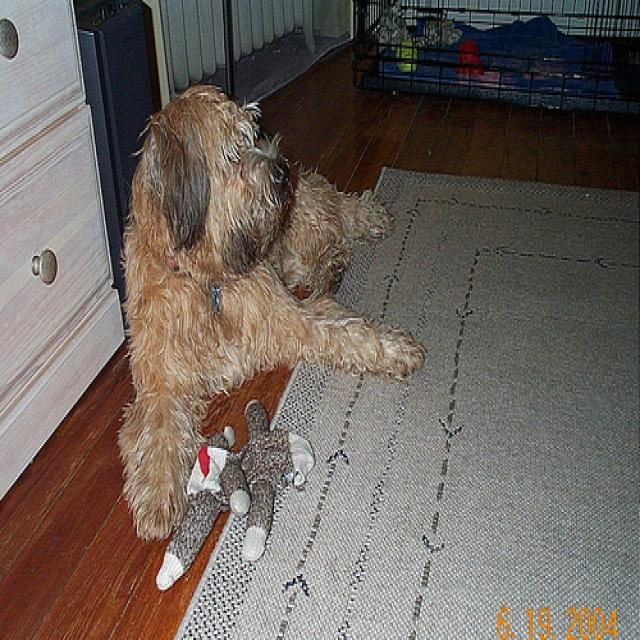dog-wheaten_terrier: (113, 74, 422, 547)
